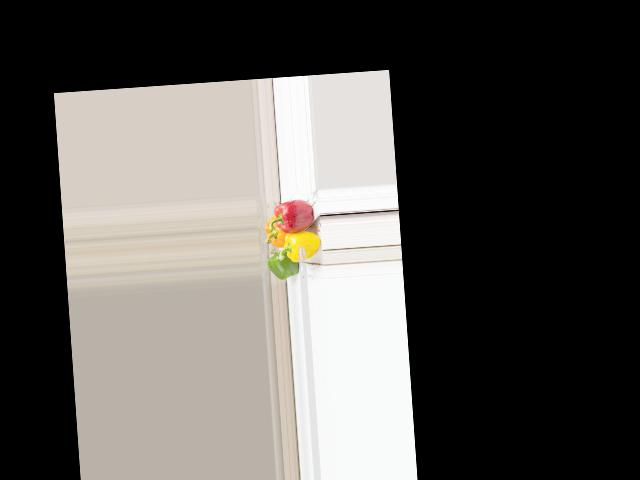bell_pepper: (263, 215, 288, 249)
